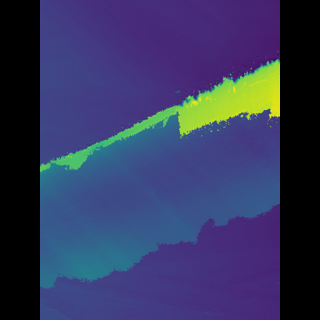Loch: (70, 58, 250, 292)
